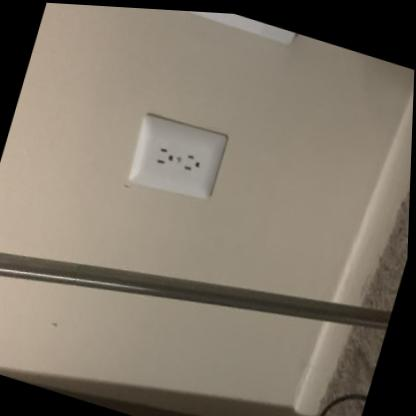OUTLET: (122, 106, 231, 211)
